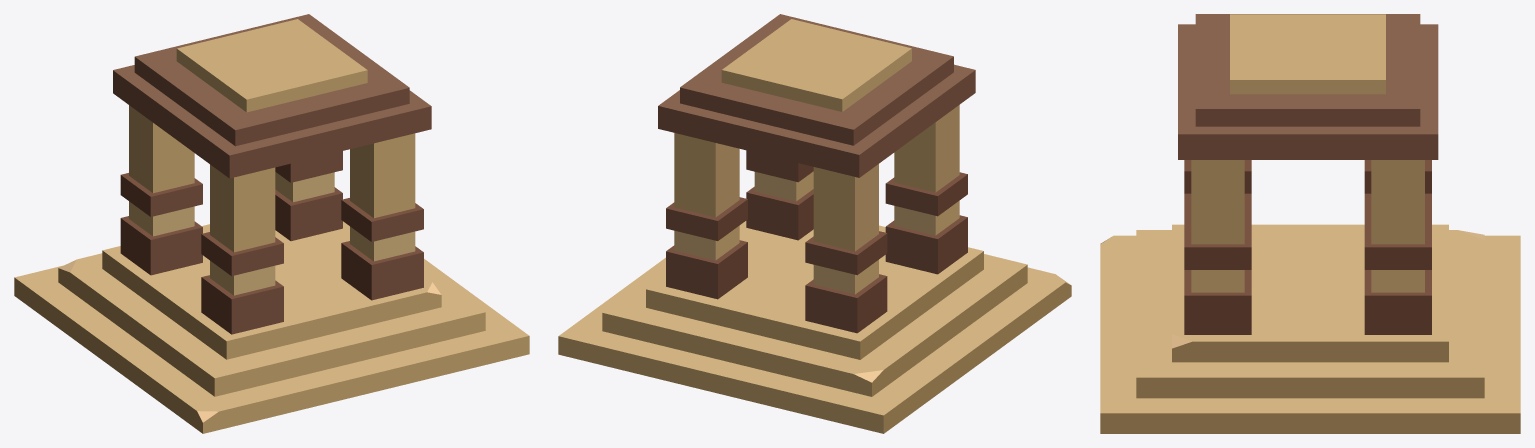
File: ST_Env_Structure_02.fbx
3 views of the same model, side by side, from view 1: azimuth 30°, elevation 25°; view 2: azimuth 150°, elevation 25°; view 3: azimuth 270°, elevation 25° (orthographic). The views are drawn at different scales.
Parts seen in each view (by area): view 1: ST_Env_Structure_02; view 2: ST_Env_Structure_02; view 3: ST_Env_Structure_02.
Part boxes in pixels (x1,y1,x2,y2): ST_Env_Structure_02: (14,14,529,433); ST_Env_Structure_02: (558,14,1071,433); ST_Env_Structure_02: (1100,14,1520,433).
Bounding box in the file's own units: 8.25 × 6.45 × 8.25.
